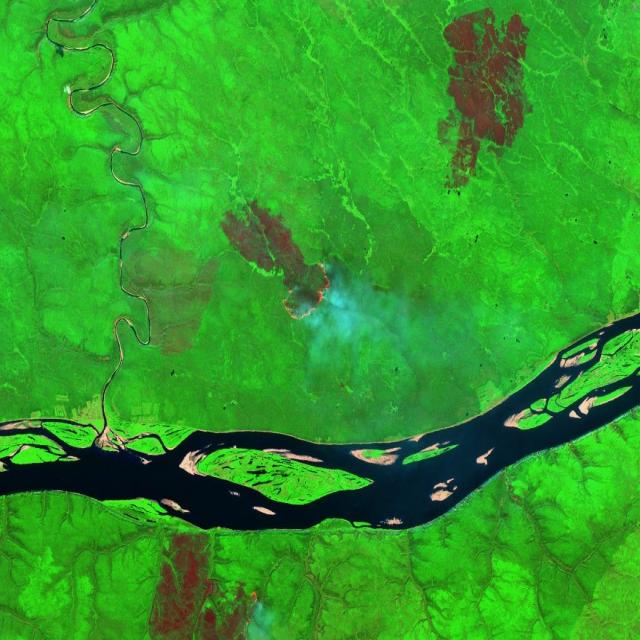fire: (278, 256, 336, 325), (238, 582, 264, 637)
